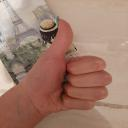ThumbsUp: (20, 16, 114, 118)
